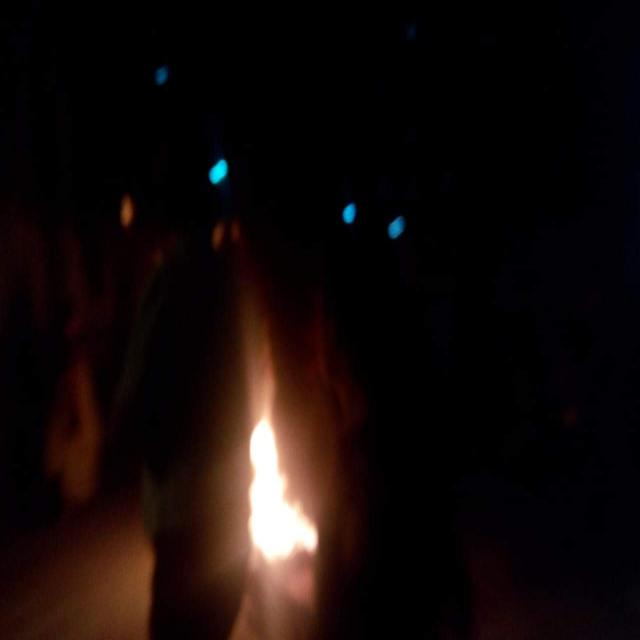Fire: (247, 410, 321, 572)
